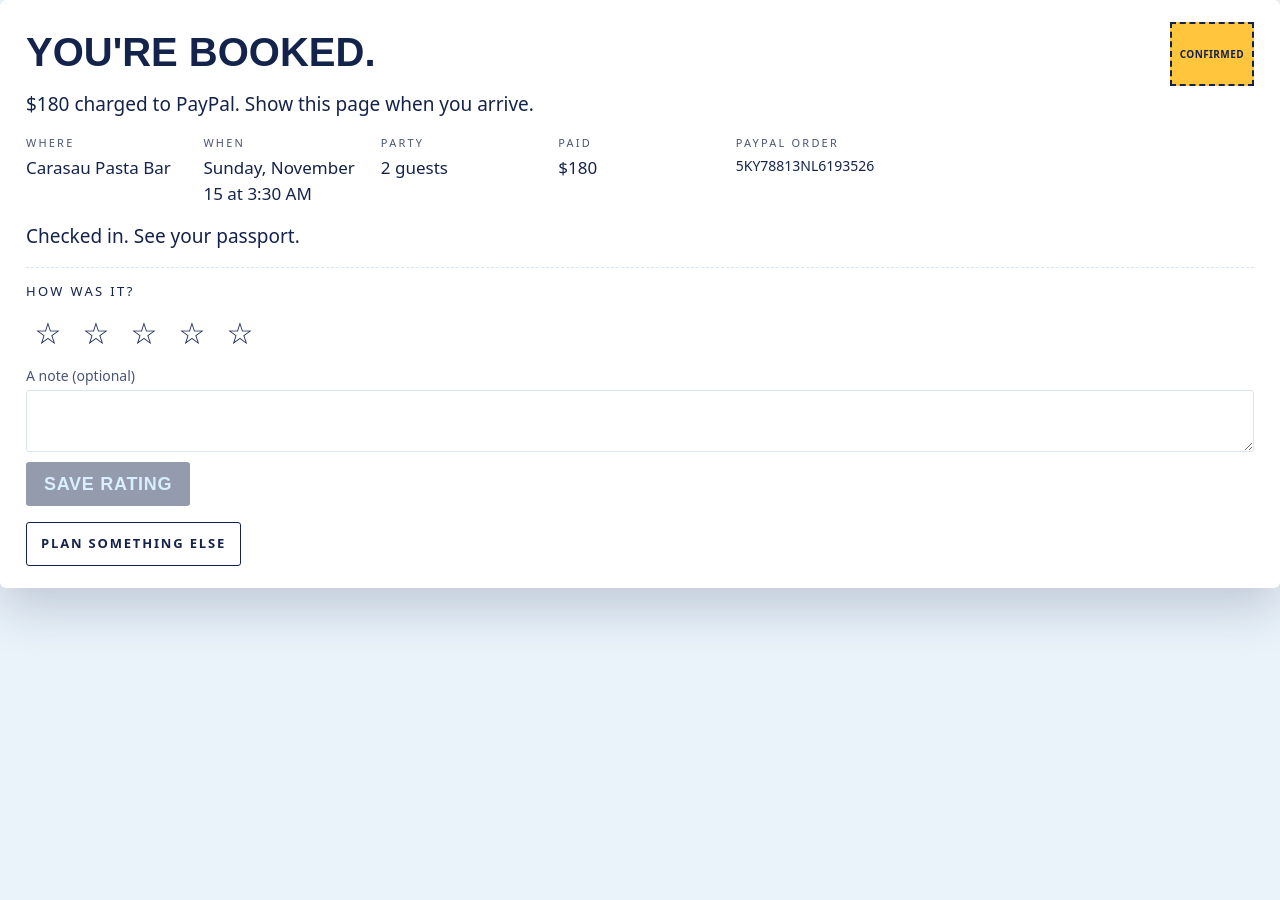
Test: BookingStatus › rating a visit › errors are shown ({"status":409,"body":{"error":"You've already rated this visit"}})
Click the button named "5 stars".
click(240, 333)  # box [218,311,262,355]
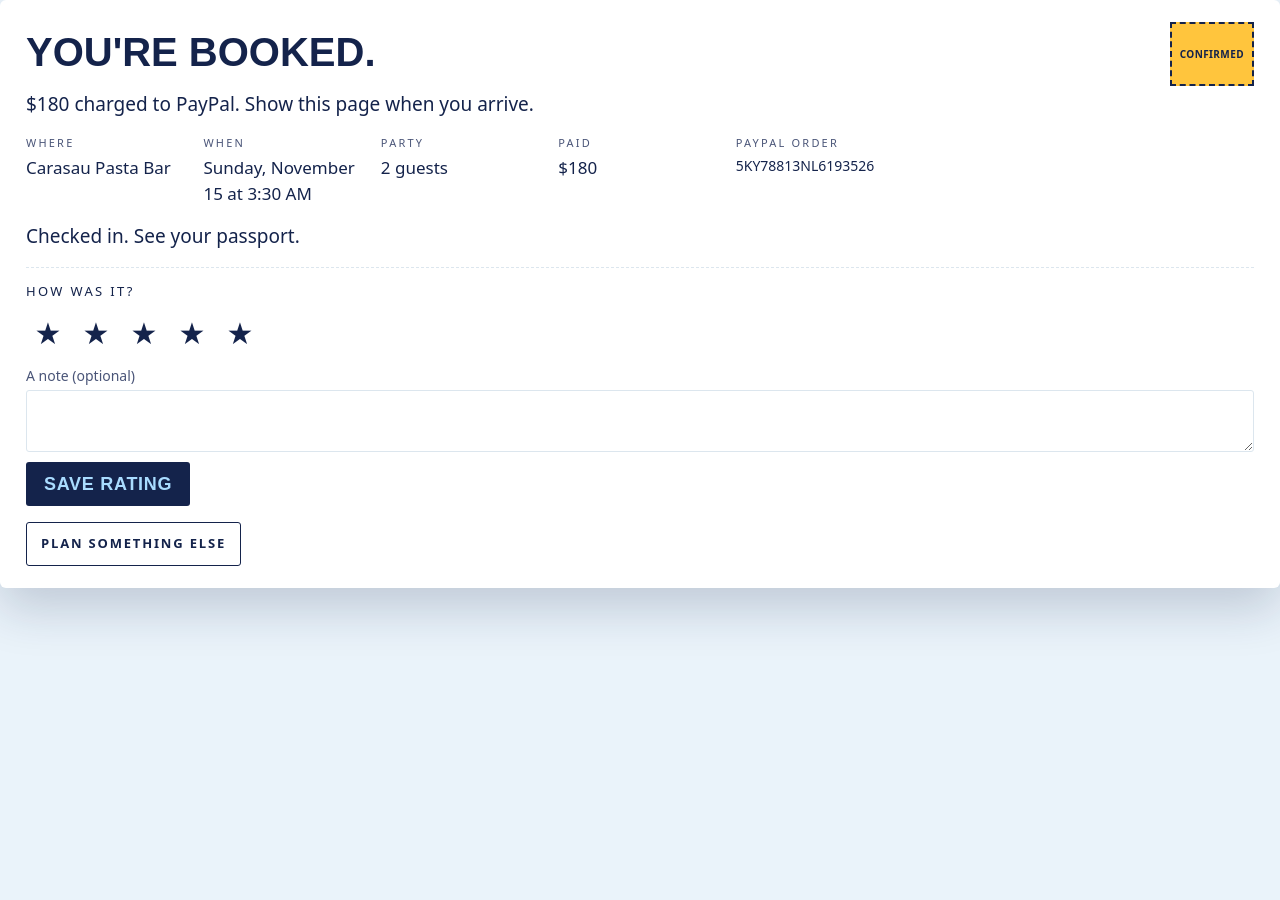
Click the button "Save rating".
click(108, 484)  # box [26,462,190,506]
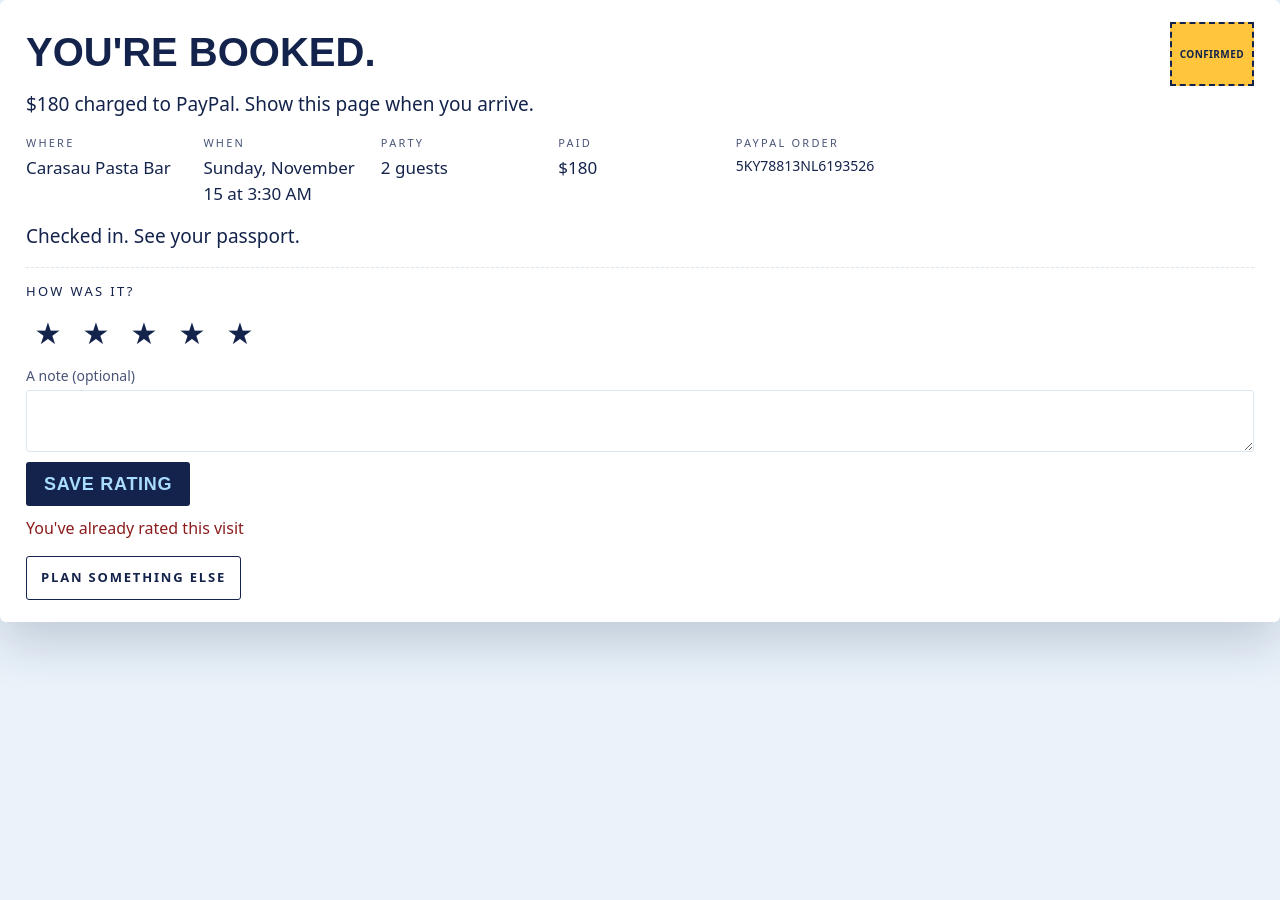
Check: the message "You've already rated this visit" is shown, box [26,517,244,539]
